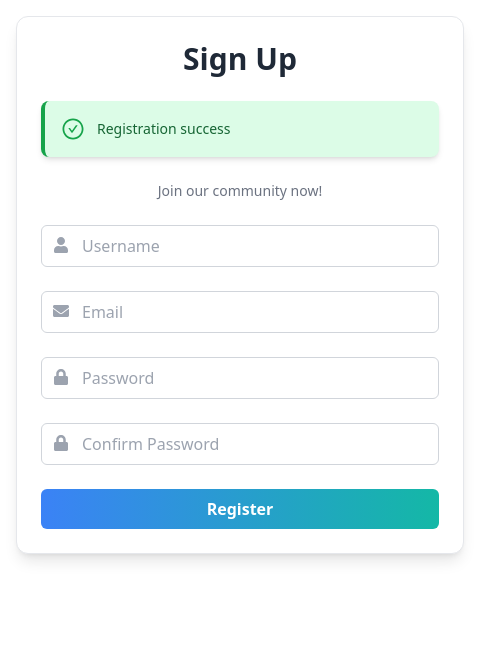
Scenario: RegistrationForm Component › validates form inputs
The image size is (481, 652).
Submit empty form
Click the button "Register" at (240, 509), box [41, 489, 439, 529]
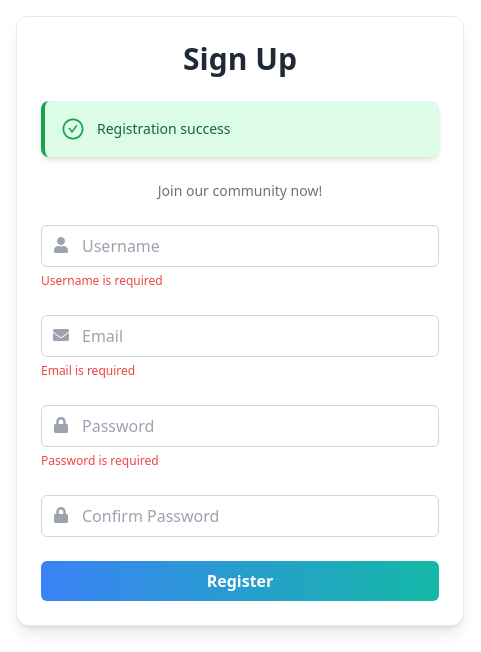
Now the text "Username is required" is shown, box [41, 272, 163, 289]
Now the text "Email is required" is shown, box [41, 362, 135, 379]
Now the text "Password is required" is shown, box [41, 452, 159, 469]
